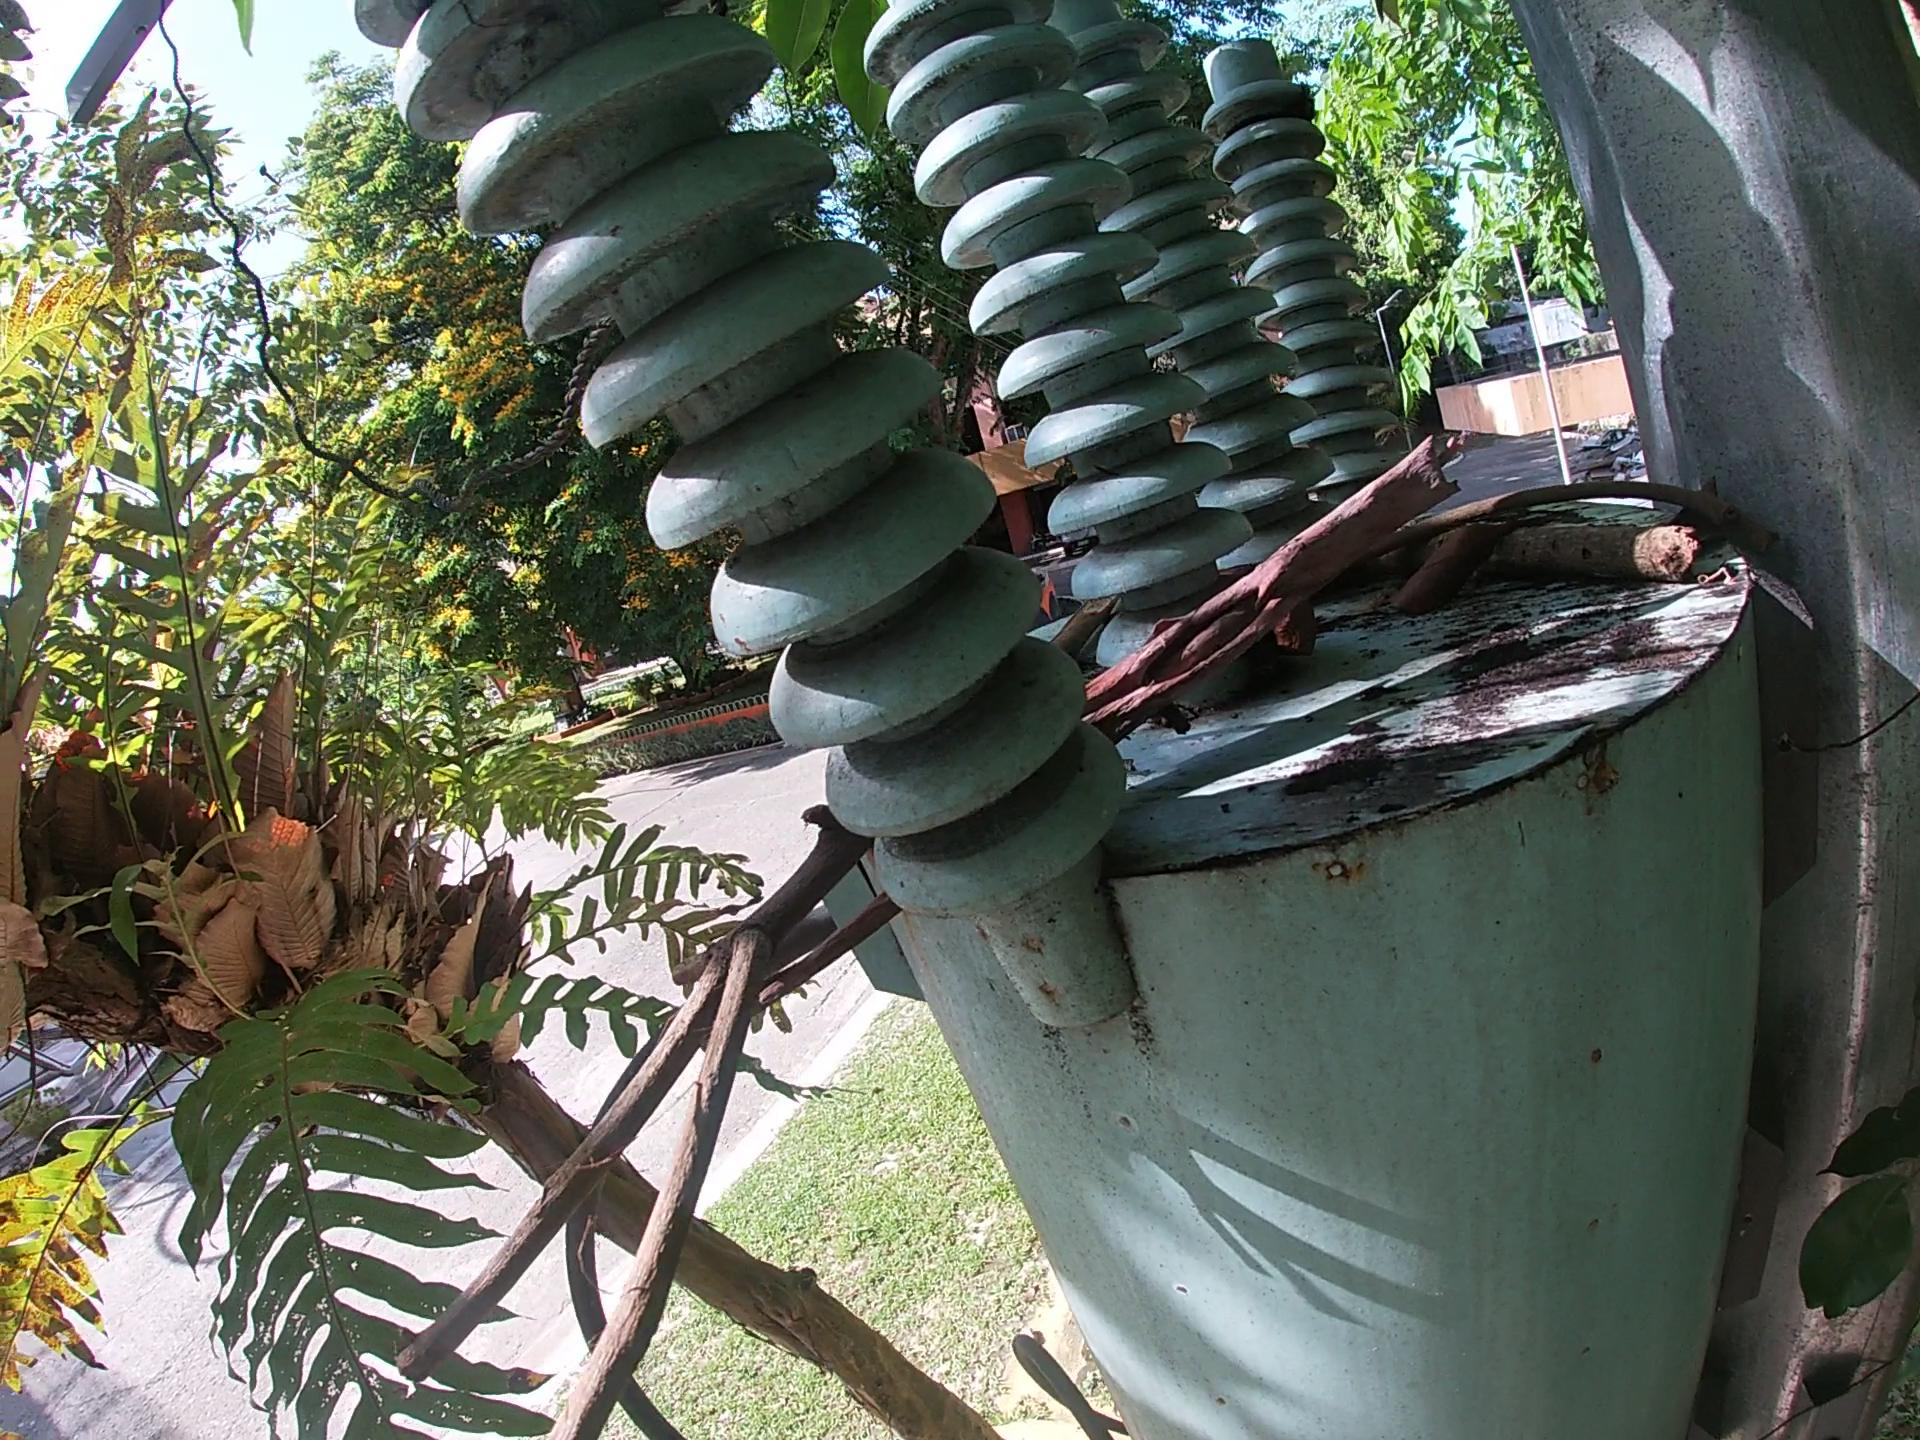leaf: (1385, 511, 1504, 619)
tree branch: (386, 799, 878, 1440), (1082, 421, 1469, 738), (1371, 473, 1798, 564), (1364, 510, 1705, 582), (751, 889, 906, 1015)
